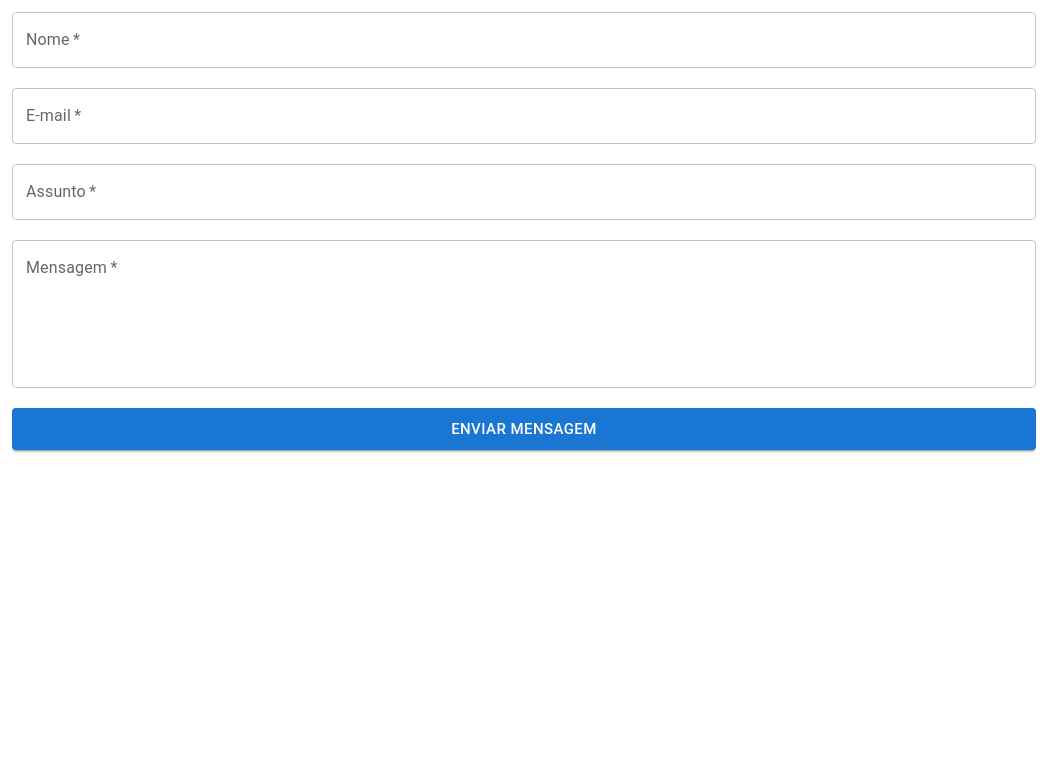
Scenario: ContactForm › validation › shows all field errors when submitting an empty form
The width and height of the screenshot is (1048, 780).
Click the button "Enviar mensagem".
click(524, 429)  # box [12,408,1036,450]
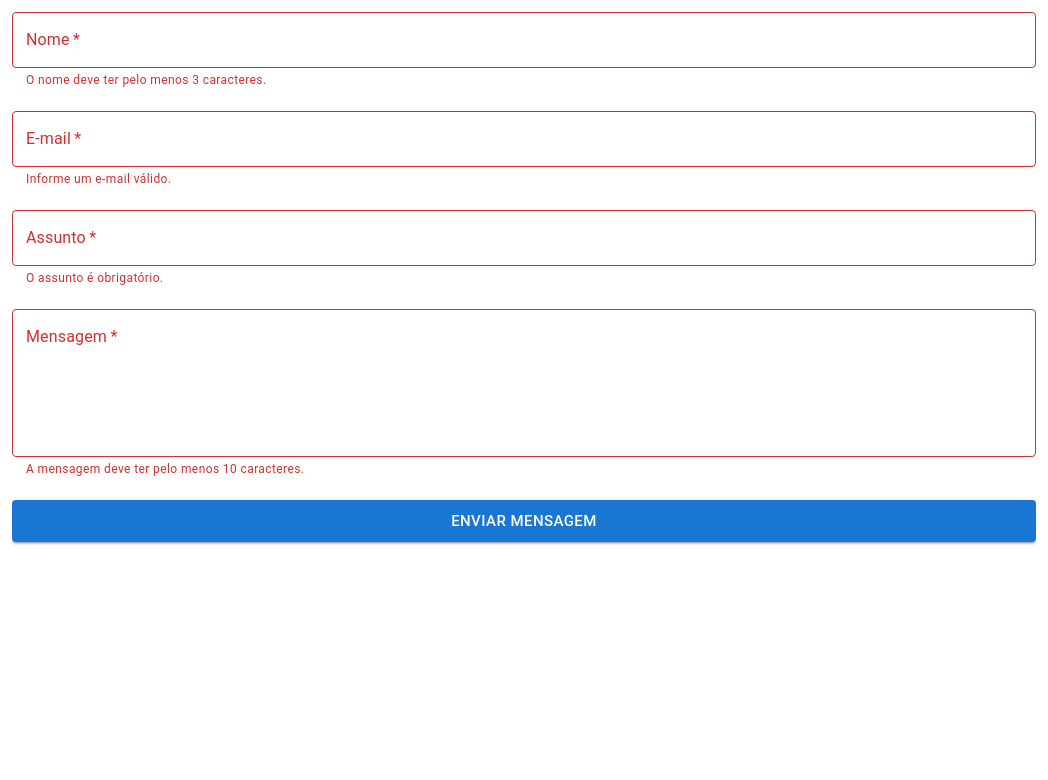
expect the text "O nome deve ter pelo menos 3 caracteres." is shown: met, box [26,73,266,87]
expect the text "Informe um e-mail válido." is shown: met, box [26,172,171,186]
expect the text "O assunto é obrigatório." is shown: met, box [26,271,163,285]
